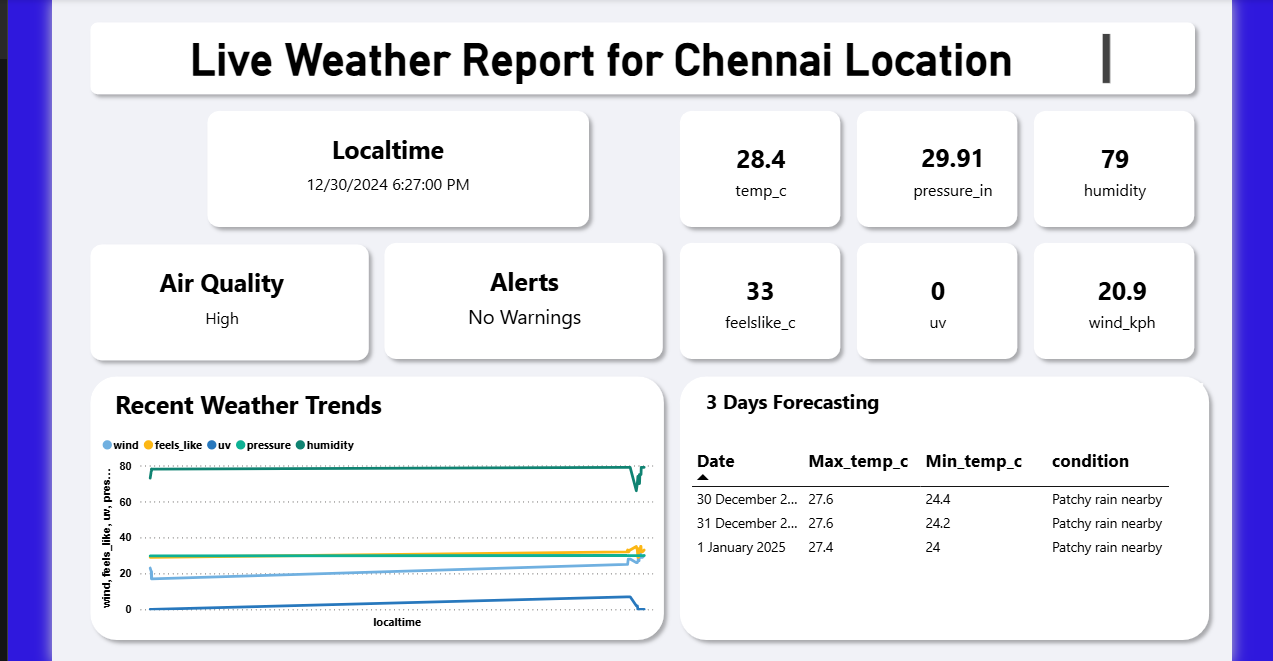

The page's visual inventory and layout, read from the dashboard file:
{"tool":"powerbi","page":{"name":"Live Weather","canvas":[1280,720],"ordinal":0},"visuals":[{"type":"shape","box":[32,16,1216,96],"z":0,"group":"g4"},{"type":"group","id":"g1","title":"Group 2","box":[32,400,640,304],"z":0},{"type":"group","id":"g2","title":"Group 3","box":[32,400,640,304],"z":0,"group":"g1"},{"type":"shape","box":[32,400,640,304],"z":0,"group":"g5"},{"type":"shape","box":[672,400,592,304],"z":0,"group":"g6"},{"type":"textbox","box":[96,32,1056,64],"z":1000,"group":"g4"},{"type":"group","id":"g3","title":"Group 3","box":[672,400,592,304],"z":1000},{"type":"group","id":"g4","title":"Group 1","box":[32,16,1216,96],"z":2000},{"type":"shape","box":[160,112,432,144],"z":2000,"group":"g7"},{"type":"shape","box":[352,256,320,144],"z":2000,"group":"g10"},{"type":"group","id":"g5","title":"Group 4","box":[32,400,640,304],"z":2001,"group":"g2"},{"type":"group","id":"g6","title":"Group 4","box":[672,400,592,304],"z":2001,"group":"g3"},{"type":"shape","box":[672,112,192,144],"z":3000},{"type":"card","title":"Localtime","fields":{"Values":["Min(Latest_weather_data.localtime)"]},"box":[181.6,144,367.2,80],"z":3000,"group":"g7"},{"type":"shape","box":[32,256,320,144],"z":3000,"group":"g8"},{"type":"shape","box":[864,112,192,144],"z":4000},{"type":"card","title":"Air Quality","fields":{"Values":["Min(Latest_weather_data.airquality_band)"]},"box":[96,288,176,80],"z":4000,"group":"g8"},{"type":"shape","box":[1056,112,192,144],"z":5000},{"type":"shape","box":[864,256,192,144],"z":6000},{"type":"shape","box":[1056,256,192,144],"z":7000},{"type":"group","id":"g7","title":"Group 5","box":[160,112,432,144],"z":8000},{"type":"shape","box":[672,256,192,144],"z":8000,"group":"g9"},{"type":"group","id":"g8","title":"Group 6","box":[32,144,800,256],"z":9000},{"type":"card","title":"Alerts","fields":{"Values":["Min(Latest_weather_data.UpdatedAlerts)"]},"box":[400,288,224,80],"z":9000,"group":"g10"},{"type":"card","fields":{"Values":["Min(Latest_weather_data.pressure_in)"]},"box":[912,128,128,112],"z":10000},{"type":"group","id":"g9","title":"Group 8","box":[672,256,192,144],"z":11000},{"type":"card","fields":{"Values":["Min(Latest_weather_data.uv)"]},"box":[896,288,128,80],"z":12000},{"type":"card","fields":{"Values":["Min(Latest_weather_data.temp_c)"]},"box":[704,144,128,80],"z":12002,"group":"g8"},{"type":"card","fields":{"Values":["Median(Latest_weather_data.humidity)"]},"box":[1088,144,128,80],"z":13000},{"type":"card","fields":{"Values":["Min(Latest_weather_data.feelslike_c)"]},"box":[698.2,288,139.6,80],"z":13000,"group":"g9"},{"type":"card","fields":{"Values":["Min(Latest_weather_data.wind_kph)"]},"box":[1088,288,144,80],"z":14000},{"type":"lineChart","fields":{"Category":["history_weather_data.localtime"],"Y":["Avg(history_weather_data.wind_degree)","Avg(history_weather_data.feelslike_c)","Avg(history_weather_data.uv)","Avg(history_weather_data.pressure_in)","Avg(history_weather_data.humidity)"]},"box":[48,464,608,224],"z":15000},{"type":"group","id":"g10","title":"Group 9","box":[352,256,320,144],"z":16000},{"type":"textbox","box":[64,416,432,48],"z":17000},{"type":"tableEx","fields":{"Values":["Latest_weather_data.ConvertedDate","Latest_weather_data.forecast.maxtemp_c","Latest_weather_data.forecast.mintemp_c","Latest_weather_data.forecast.condition"]},"box":[688,480,576,176],"z":18000},{"type":"textbox","box":[704,416,544,64],"z":19000}]}

Visuals, with their boxes on the page's 1280x720 design canvas (x1, y1, x2, y2). These are canvas units, not pixel positions in the 1273x661 screenshot, which may show the page scaled, cropped or inside an application window:
shape: bbox=(32, 16, 1248, 112)
"Group 2" group: bbox=(32, 400, 672, 704)
"Group 3" group: bbox=(32, 400, 672, 704)
shape: bbox=(32, 400, 672, 704)
shape: bbox=(672, 400, 1264, 704)
textbox: bbox=(96, 32, 1152, 96)
"Group 3" group: bbox=(672, 400, 1264, 704)
"Group 1" group: bbox=(32, 16, 1248, 112)
shape: bbox=(160, 112, 592, 256)
shape: bbox=(352, 256, 672, 400)
"Group 4" group: bbox=(32, 400, 672, 704)
"Group 4" group: bbox=(672, 400, 1264, 704)
shape: bbox=(672, 112, 864, 256)
"Localtime" card: bbox=(182, 144, 549, 224)
shape: bbox=(32, 256, 352, 400)
shape: bbox=(864, 112, 1056, 256)
"Air Quality" card: bbox=(96, 288, 272, 368)
shape: bbox=(1056, 112, 1248, 256)
shape: bbox=(864, 256, 1056, 400)
shape: bbox=(1056, 256, 1248, 400)
"Group 5" group: bbox=(160, 112, 592, 256)
shape: bbox=(672, 256, 864, 400)
"Group 6" group: bbox=(32, 144, 832, 400)
"Alerts" card: bbox=(400, 288, 624, 368)
card - Min(Latest_weather_data.pressure_in): bbox=(912, 128, 1040, 240)
"Group 8" group: bbox=(672, 256, 864, 400)
card - Min(Latest_weather_data.uv): bbox=(896, 288, 1024, 368)
card - Min(Latest_weather_data.temp_c): bbox=(704, 144, 832, 224)
card - Median(Latest_weather_data.humidity): bbox=(1088, 144, 1216, 224)
card - Min(Latest_weather_data.feelslike_c): bbox=(698, 288, 838, 368)
card - Min(Latest_weather_data.wind_kph): bbox=(1088, 288, 1232, 368)
lineChart - history_weather_data.localtime x Avg(history_weather_data.wind_degree): bbox=(48, 464, 656, 688)
"Group 9" group: bbox=(352, 256, 672, 400)
textbox: bbox=(64, 416, 496, 464)
tableEx - Latest_weather_data.ConvertedDate x Latest_weather_data.forecast.maxtemp_c: bbox=(688, 480, 1264, 656)
textbox: bbox=(704, 416, 1248, 480)
